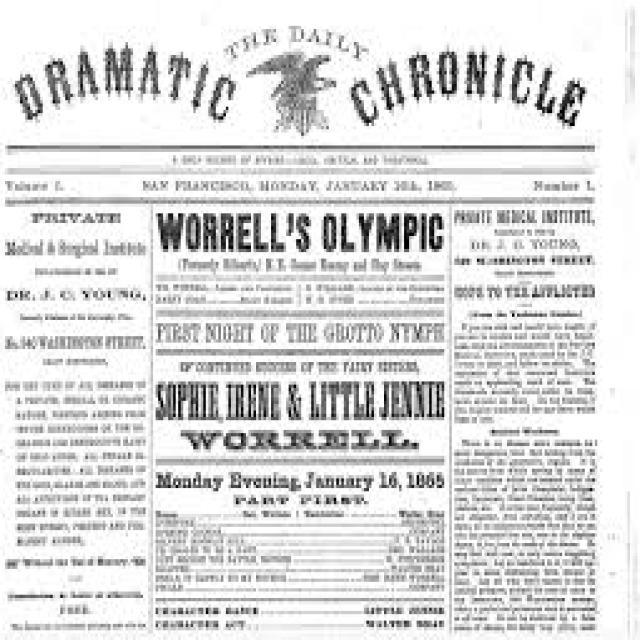Newspaper: (0, 0, 620, 640)
